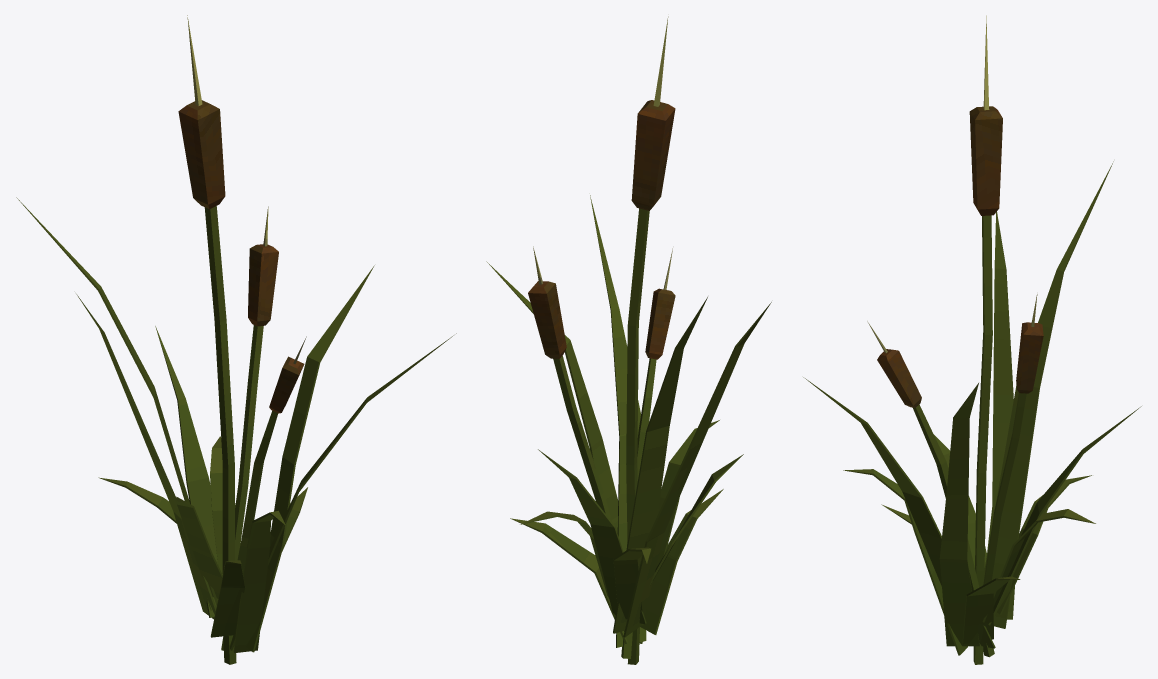
Rendered from CatTail.fbx.
3 views of the same model, side by side, from view 1: azimuth 30°, elevation 25°; view 2: azimuth 150°, elevation 25°; view 3: azimuth 270°, elevation 25° (orthographic). The views are drawn at different scales.
Parts seen in each view (by area): view 1: CatTails; view 2: CatTails; view 3: CatTails.
Part boxes in pixels (x1,y1,x2,y2): CatTails: [16, 15, 456, 664]; CatTails: [486, 16, 771, 664]; CatTails: [803, 15, 1141, 664].
Size of the model in its own units: 167 by 358 by 176.
Materials: 1 (1 with a texture image).
